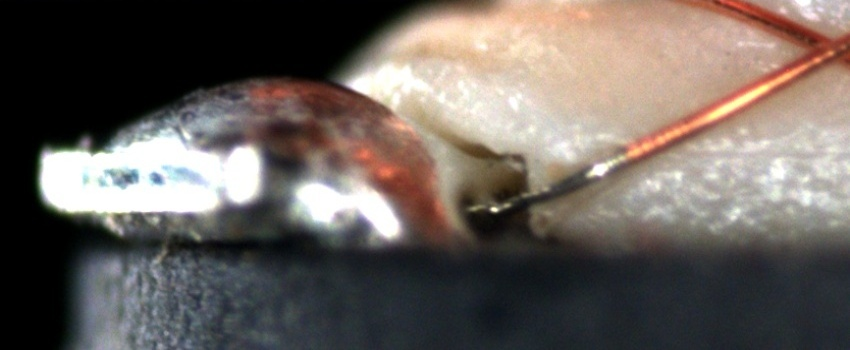CL: (780, 15, 847, 76)
DL: (681, 119, 849, 183)
TS: (459, 149, 632, 220)
TTCW: (464, 133, 675, 213)
